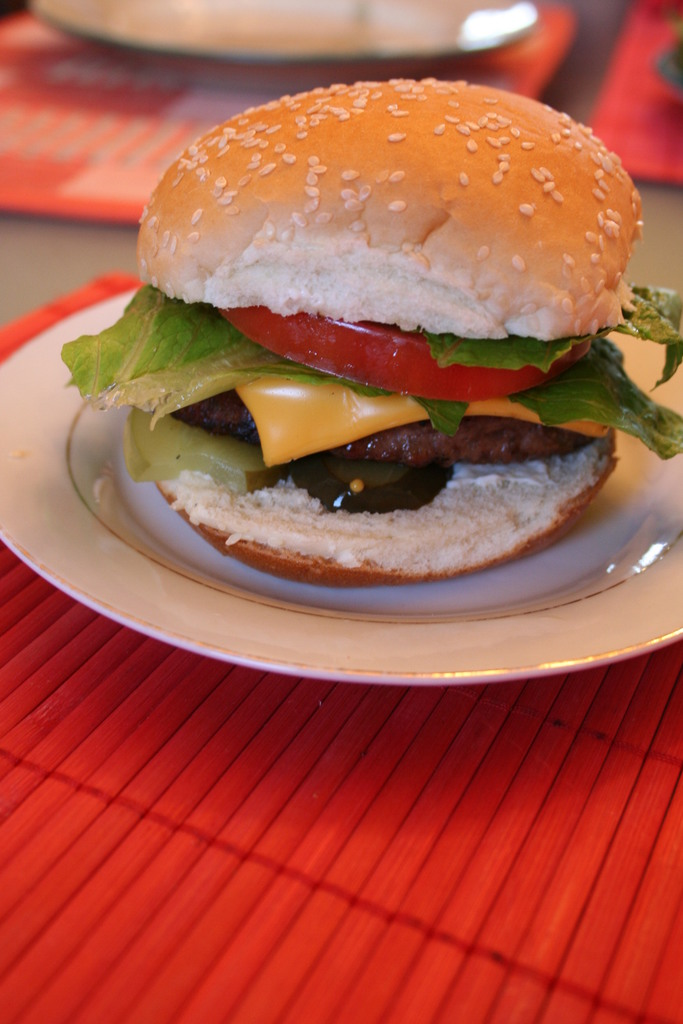Hamburger: (54, 71, 682, 580)
